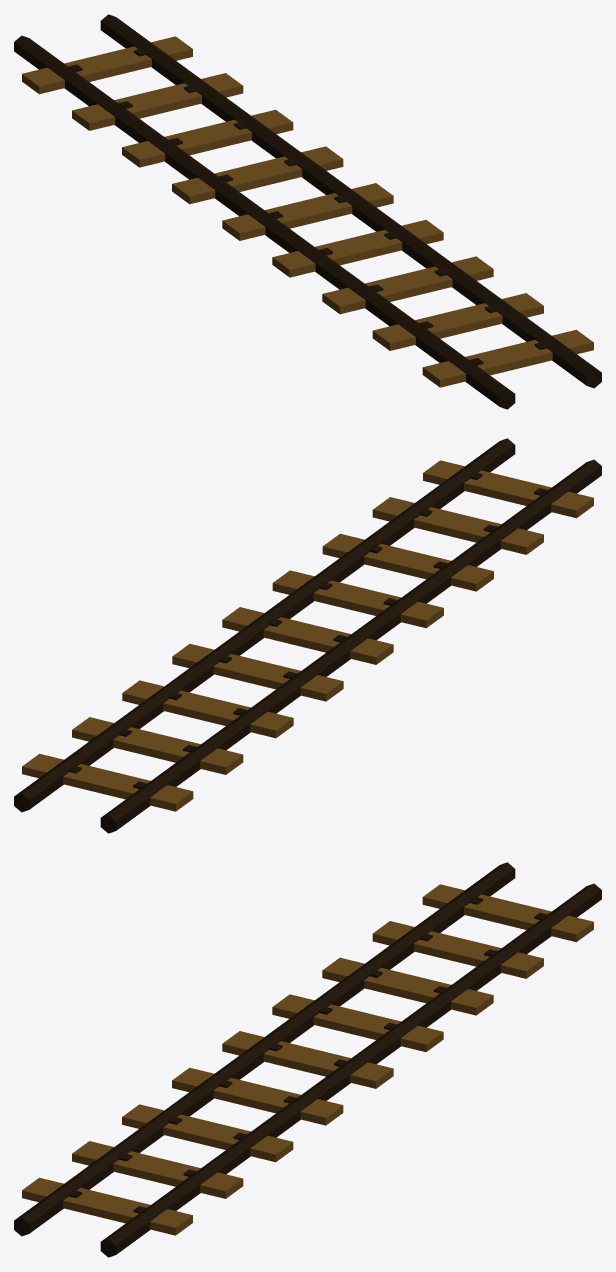
The model's file is rail 1.fbx.
3 renders of one model, top to bottom at view 1: azimuth 30°, elevation 25°; view 2: azimuth 150°, elevation 25°; view 3: azimuth 330°, elevation 25°, orthographic.
Parts seen in each view (by area): view 1: Cube.001; view 2: Cube.001; view 3: Cube.001.
Boxes of the visible parts, left/top/right/bottom form: Cube.001: left=14, top=14, right=601, bottom=409; Cube.001: left=14, top=438, right=601, bottom=833; Cube.001: left=14, top=862, right=601, bottom=1257.
Bounding box in the file's own units: 709 × 82.5 × 3877.
